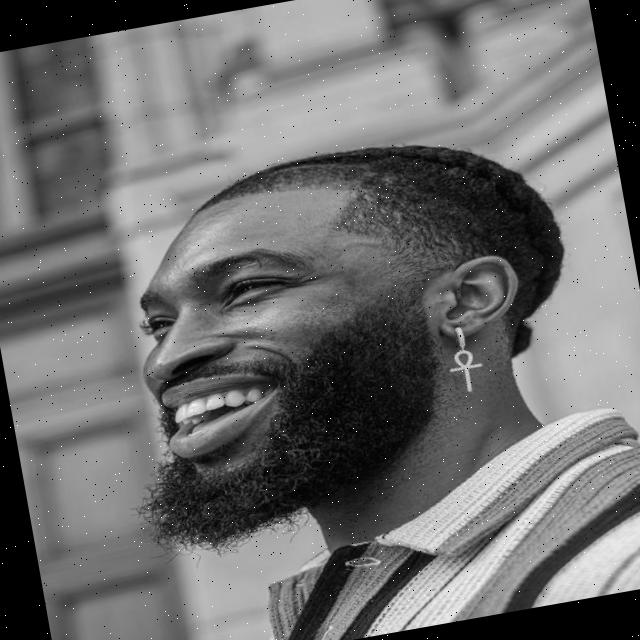Happiness: (110, 168, 437, 548)
